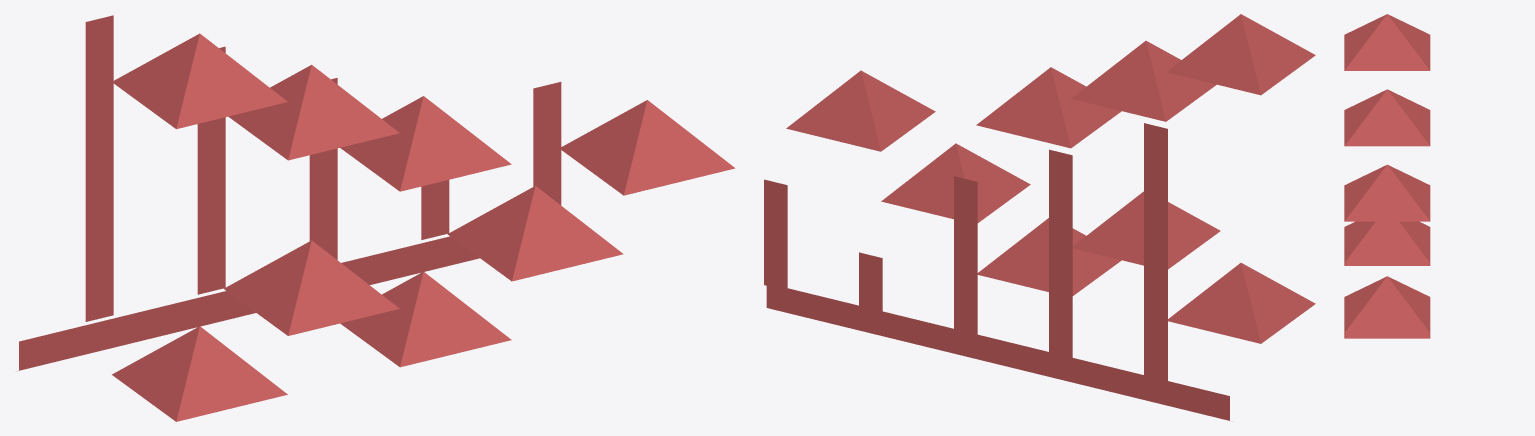
Rendered from rc_dorifu3.glb.
3 views of the same model, side by side, from view 1: azimuth 30°, elevation 25°; view 2: azimuth 150°, elevation 25°; view 3: azimuth 270°, elevation 25° (orthographic). The views are drawn at different scales.
Parts seen in each view (by area): view 1: rc_dorifu3_col; view 2: rc_dorifu3_col; view 3: rc_dorifu3_col.
Part boxes in pixels (<box>): rc_dorifu3_col: <box>17,15,735,421</box>; rc_dorifu3_col: <box>764,14,1315,420</box>; rc_dorifu3_col: <box>1344,14,1430,338</box>.
Bounding box in the file's own units: 2.12 × 1.32 × 0.8202.
